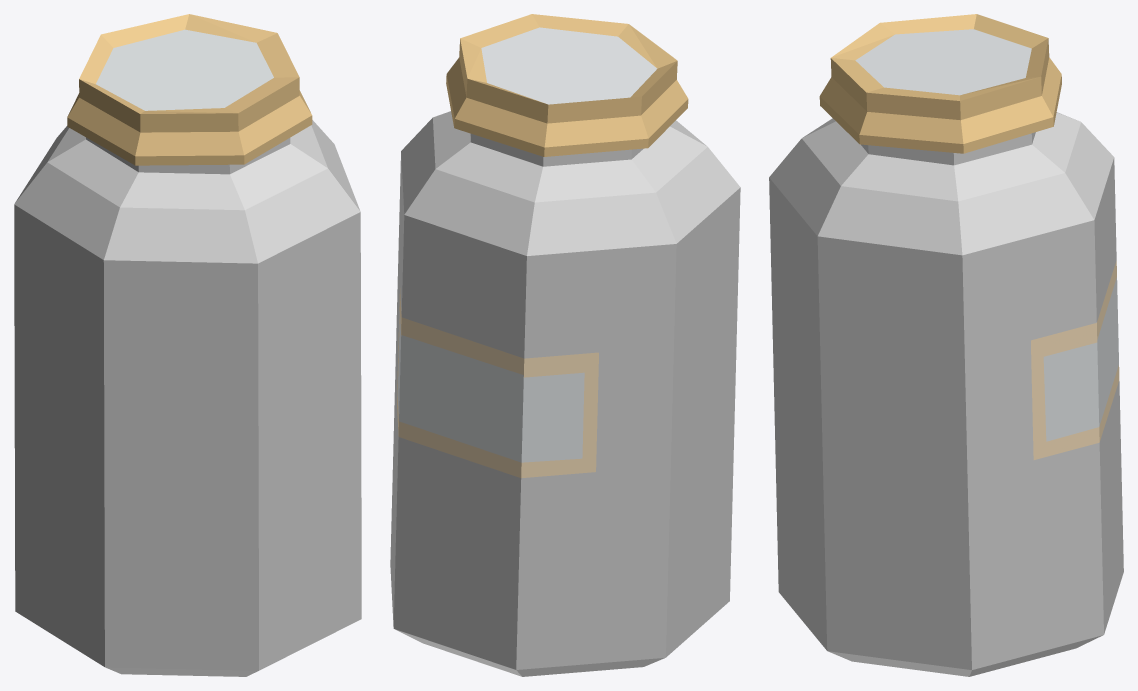
File: bottlepaper.fbx
3 renders of one model, left to right at view 1: azimuth 30°, elevation 25°; view 2: azimuth 150°, elevation 25°; view 3: azimuth 270°, elevation 25°, orthographic.
Parts seen in each view (by area): view 1: BOTTLEPAPER; view 2: BOTTLEPAPER; view 3: BOTTLEPAPER.
Boxes of the visible parts, x1,y1,x2,y2 form: BOTTLEPAPER: (14,14,361,676); BOTTLEPAPER: (390,14,740,676); BOTTLEPAPER: (769,14,1123,676).
Bounding box in the file's own units: 0.8608 × 0.8707 × 1.53.
